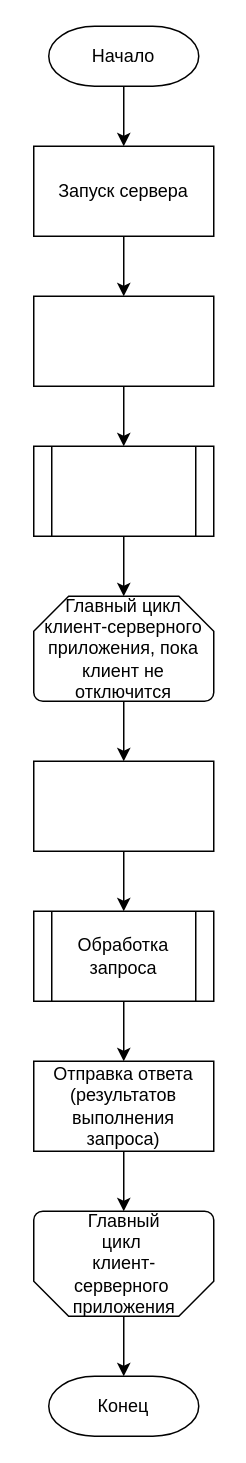
Image size: 246x1463. Some labels were removed from this diagram. Here are the shapes that lost their labels. From the top down, the centre of each, then its label:
(123,340): Запуск клиента
(123,490): Авторизация в системе
(123,805): Получение запроса
